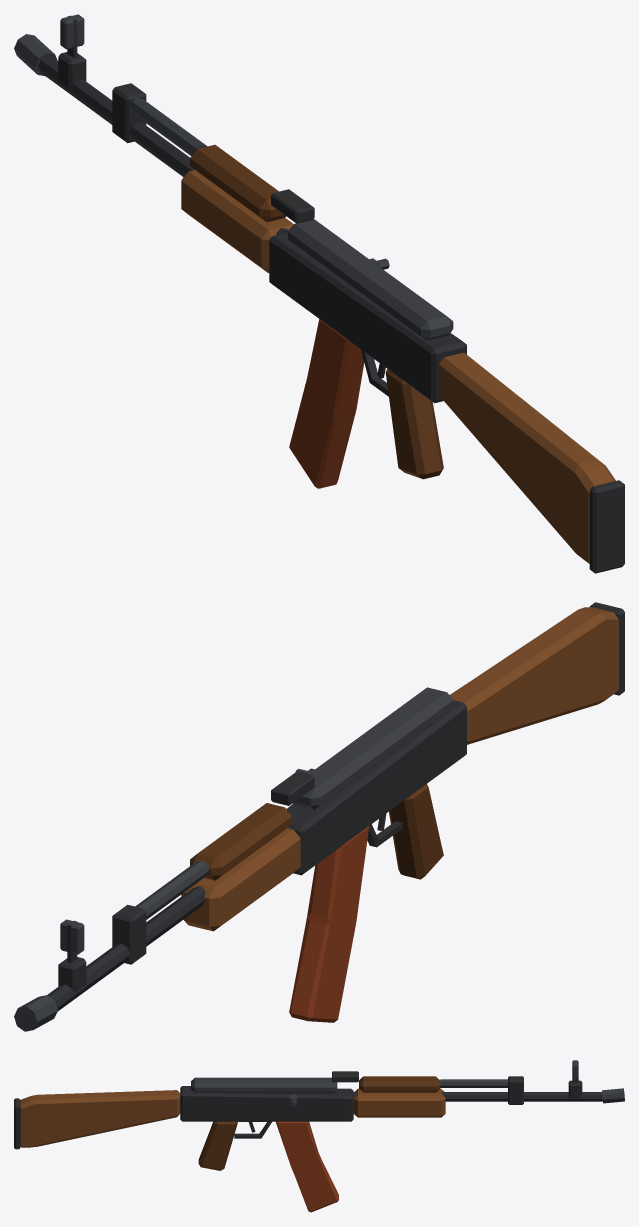
The picture shows the model from 3 angles, top to bottom: view 1: azimuth 30°, elevation 25°; view 2: azimuth 150°, elevation 25°; view 3: azimuth 270°, elevation 25°; orthographic projection. The views are drawn at different scales.
Parts seen in each view (by area): view 1: ak; view 2: ak; view 3: ak.
Boxes of the visible parts, <box> form: ak: <box>14,14,624,573</box>; ak: <box>14,602,624,1031</box>; ak: <box>14,1060,624,1212</box>.
Bounding box in the file's own units: 0.072 × 0.3014 × 1.13.
